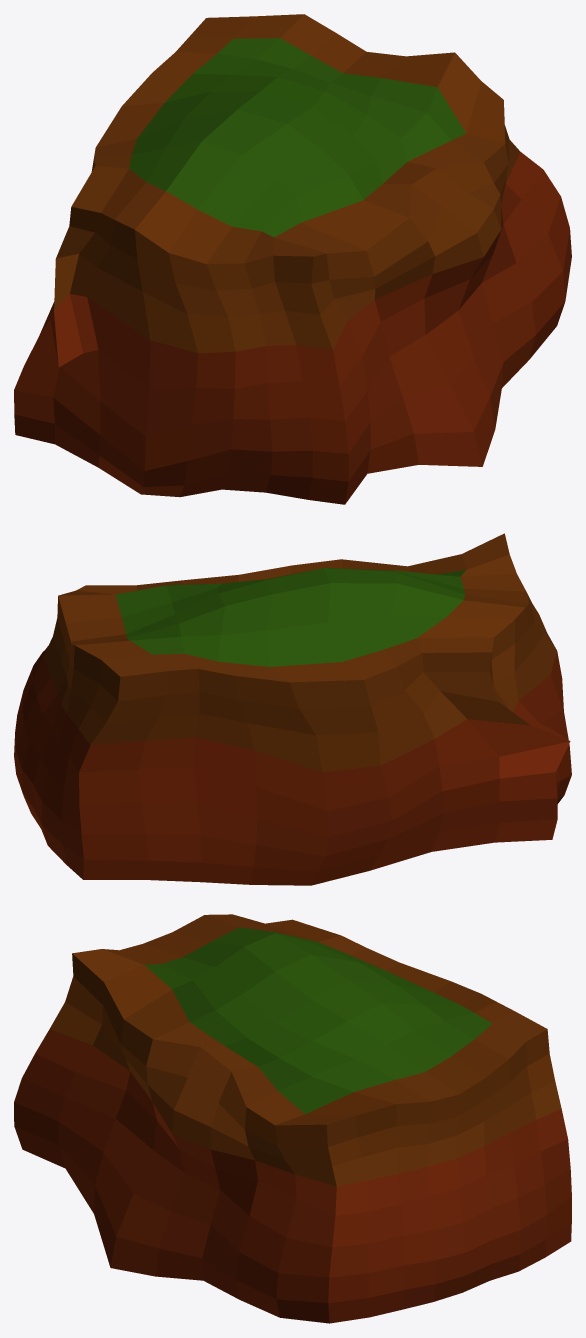
Rendered from Mountain.fbx.
3 renders of one model, top to bottom at view 1: azimuth 30°, elevation 25°; view 2: azimuth 150°, elevation 25°; view 3: azimuth 270°, elevation 25°, orthographic. The views are drawn at different scales.
Parts seen in each view (by area): view 1: mountain, mountain mid, mountain top; view 2: mountain, mountain mid, mountain top; view 3: mountain, mountain mid, mountain top.
Part boxes in pixels (<box>): mountain: <box>14,152,571,504</box>; mountain mid: <box>54,14,520,353</box>; mountain top: <box>129,38,465,237</box>; mountain: <box>14,646,571,885</box>; mountain mid: <box>43,533,556,772</box>; mountain top: <box>115,568,465,666</box>; mountain: <box>14,1029,571,1323</box>; mountain mid: <box>50,914,561,1186</box>; mountain top: <box>145,927,492,1114</box>.
Bounding box in the file's own units: 1022 × 502 × 979.
3 materials, 3 textured.
